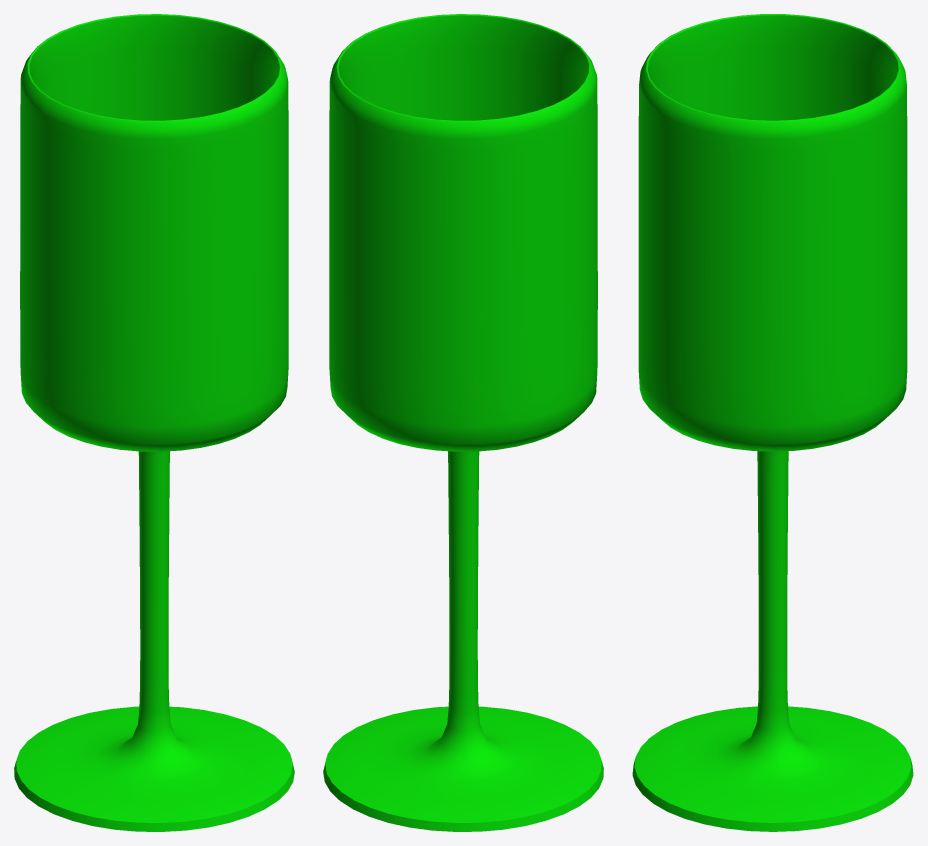
Rendered from Glass8_LOD_0.fbx.
3 renders of one model, left to right at view 1: azimuth 30°, elevation 25°; view 2: azimuth 150°, elevation 25°; view 3: azimuth 270°, elevation 25°, orthographic.
Visible parts, largest first — view 1: Glass8_LOD_0; view 2: Glass8_LOD_0; view 3: Glass8_LOD_0.
Boxes of the visible parts, left/top/right/bottom form: Glass8_LOD_0: left=14, top=14, right=294, bottom=831; Glass8_LOD_0: left=323, top=14, right=603, bottom=831; Glass8_LOD_0: left=632, top=14, right=913, bottom=831.
Bounding box in the file's own units: 0.7178 × 2 × 0.7185.
